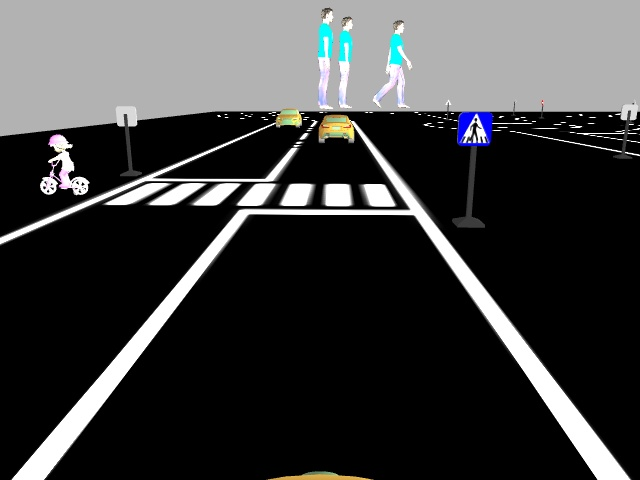Crosswalk: (457, 111, 493, 146)
Pedestrian: (38, 134, 92, 198)
